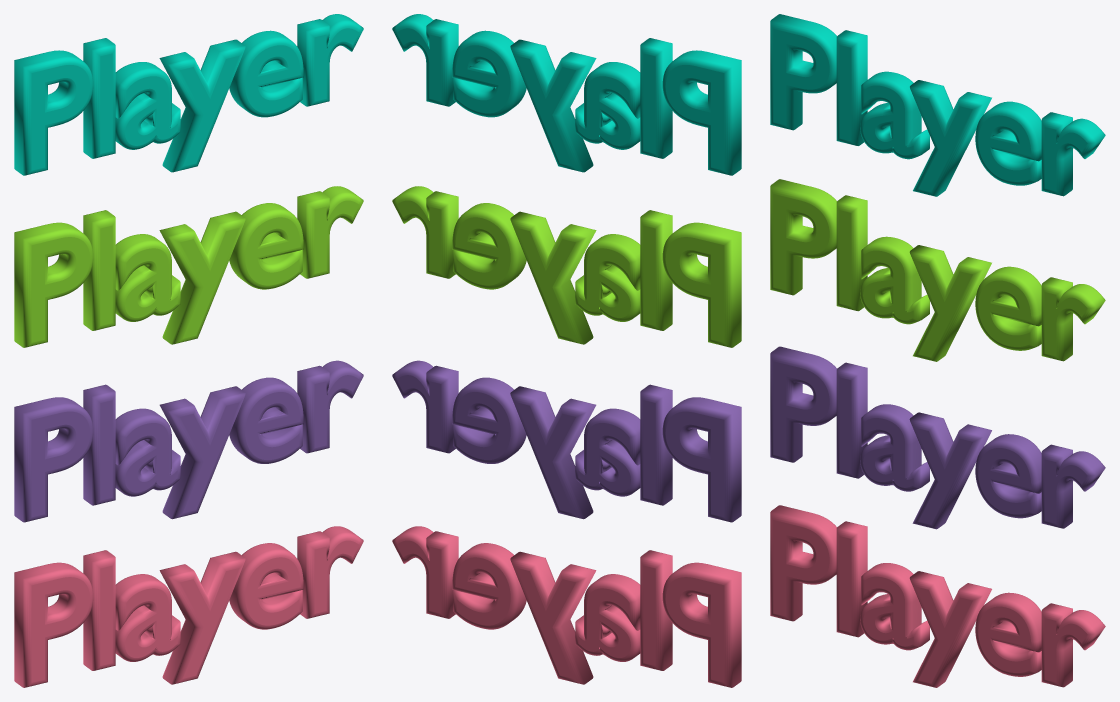
Rendered from player_name.fbx.
3 views of the same model, side by side, from view 1: azimuth 30°, elevation 25°; view 2: azimuth 150°, elevation 25°; view 3: azimuth 330°, elevation 25° (orthographic). The views are drawn at different scales.
Visible parts, largest first — view 1: pink, purple, green, mint; view 2: pink, purple, green, mint; view 3: pink, purple, mint, green.
Part boxes in pixels (x1,y1,x2,y2): pink: (14,526,363,687); purple: (14,360,363,522); green: (14,186,363,347); mint: (14,14,363,175); pink: (392,526,741,687); purple: (392,360,741,522); green: (392,186,741,347); mint: (392,14,741,175); pink: (770,505,1105,687); purple: (770,346,1105,529); mint: (770,14,1105,196); green: (770,179,1105,361).
Bounding box in the file's own units: 249 × 458 × 18.
